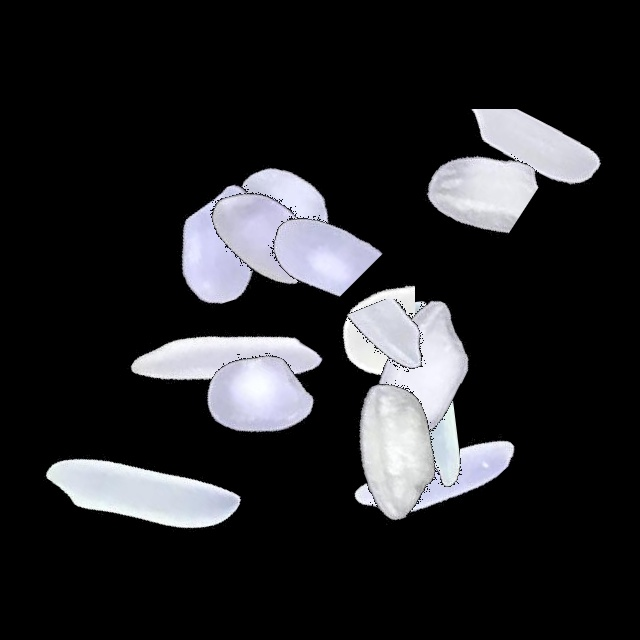Broken: (173, 145, 423, 305), (331, 94, 581, 249), (380, 109, 630, 260), (271, 299, 521, 433), (328, 184, 415, 434)
Full: (162, 89, 412, 339), (311, 351, 561, 601), (304, 268, 554, 518), (93, 120, 343, 370), (295, 250, 545, 500), (101, 236, 351, 486), (136, 273, 386, 523), (14, 366, 264, 616), (143, 112, 393, 362), (271, 322, 521, 572)
